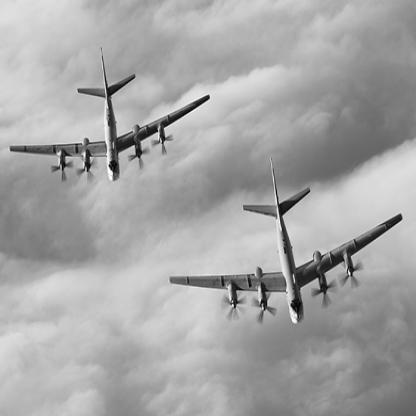Tu95: (169, 157, 403, 325), (10, 46, 212, 182)
